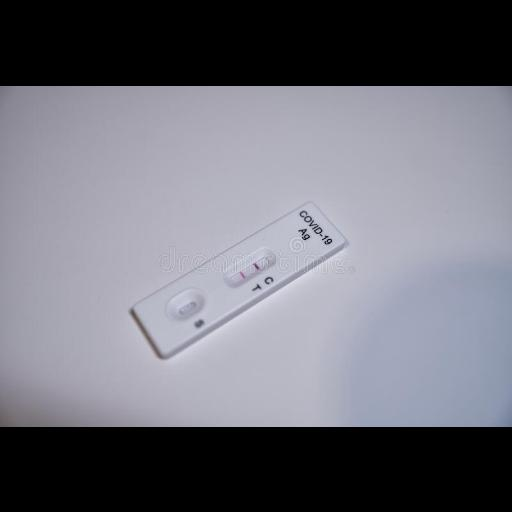Pos: (132, 198, 350, 352)
